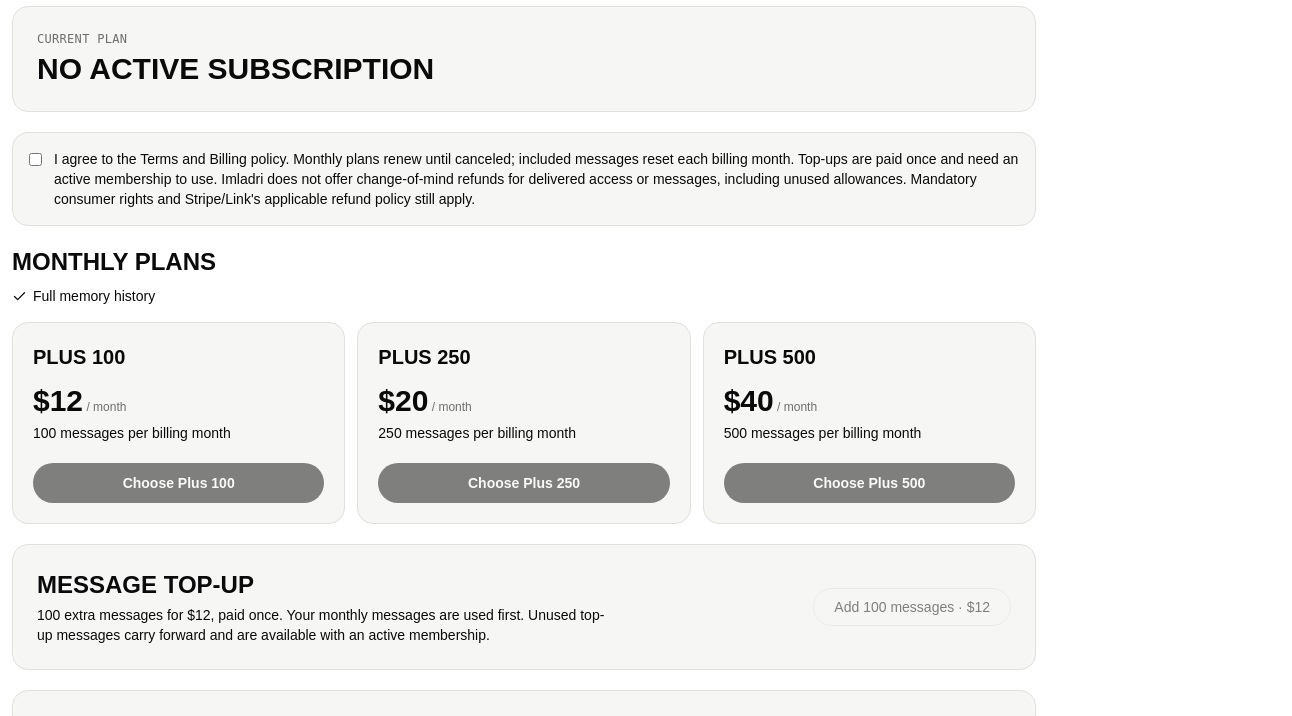
Test case: one account separately reviews and authorizes its year, including after a recoverable failure
This screenshot has width=1292, height=716.
Click the checkbox with test id "purchase-policy-accept": click(36, 160) [29, 153, 42, 166]
(page scrolled)
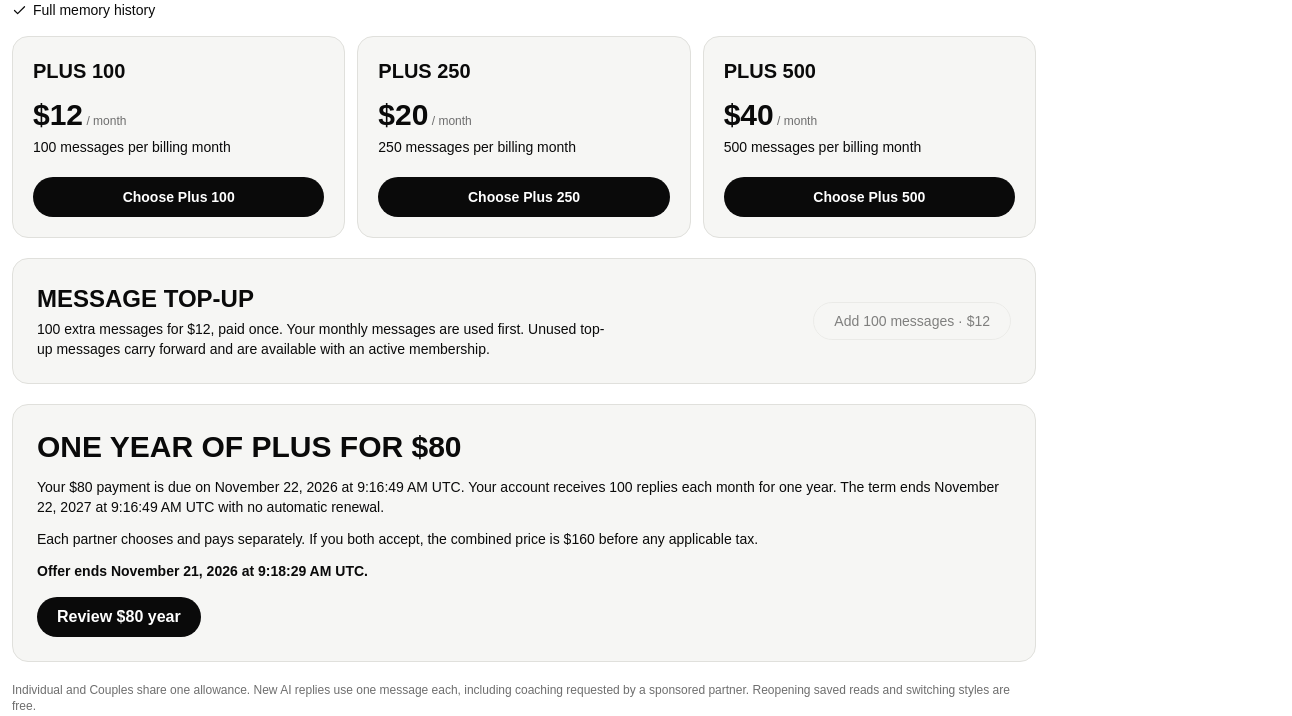
Click the button "Review $80 year": click(119, 617) [37, 597, 201, 637]
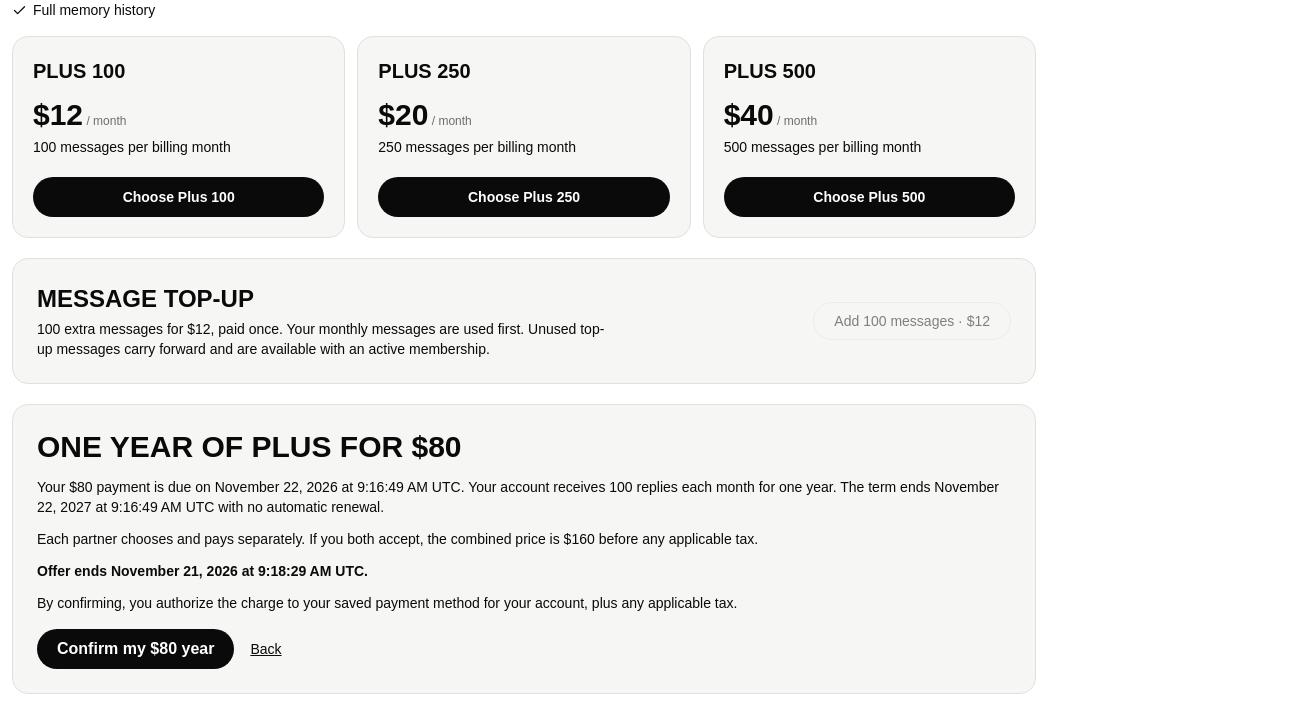
Check: the text "no automatic renewal" is shown, box [214, 499, 384, 515]
Click the button "Confirm my $80 year": click(136, 649) [37, 629, 234, 669]
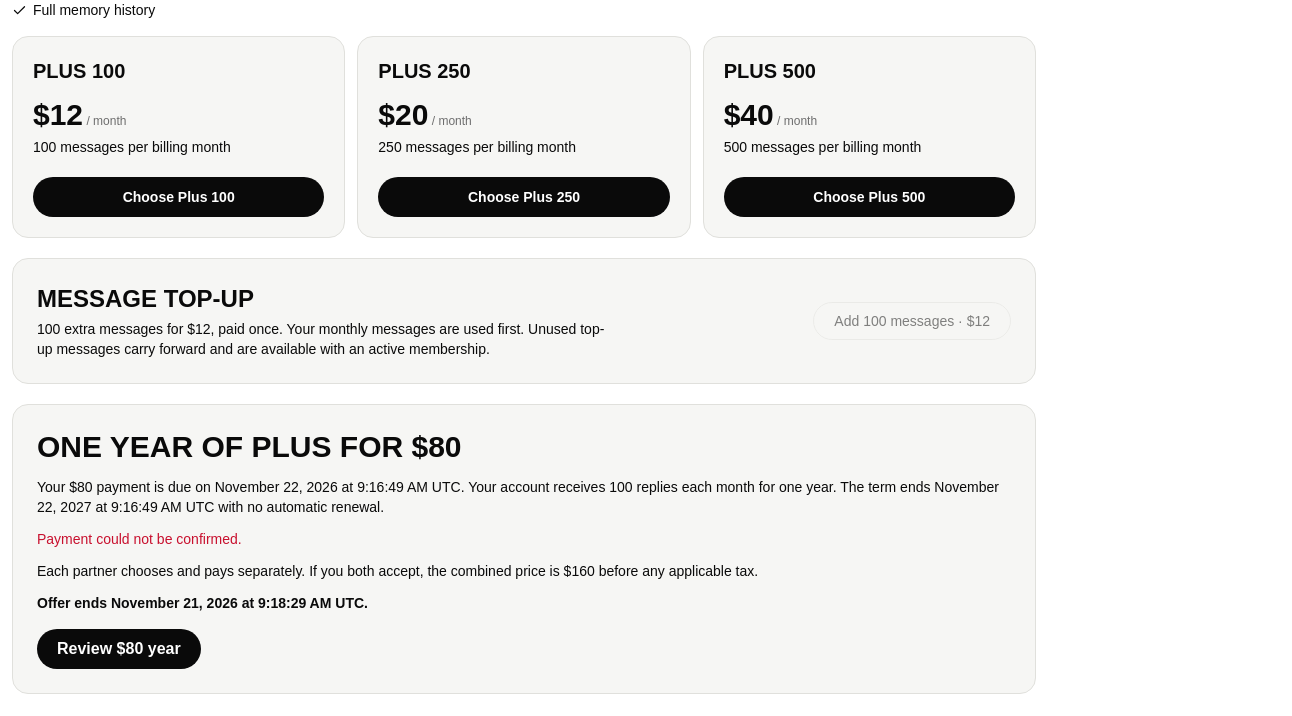
Check: the text "Your $80 year is scheduled" is not shown
Check: the message "Payment could not be confirmed." is shown, box [37, 531, 242, 547]
Click the button "Review $80 year": click(119, 649) [37, 629, 201, 669]
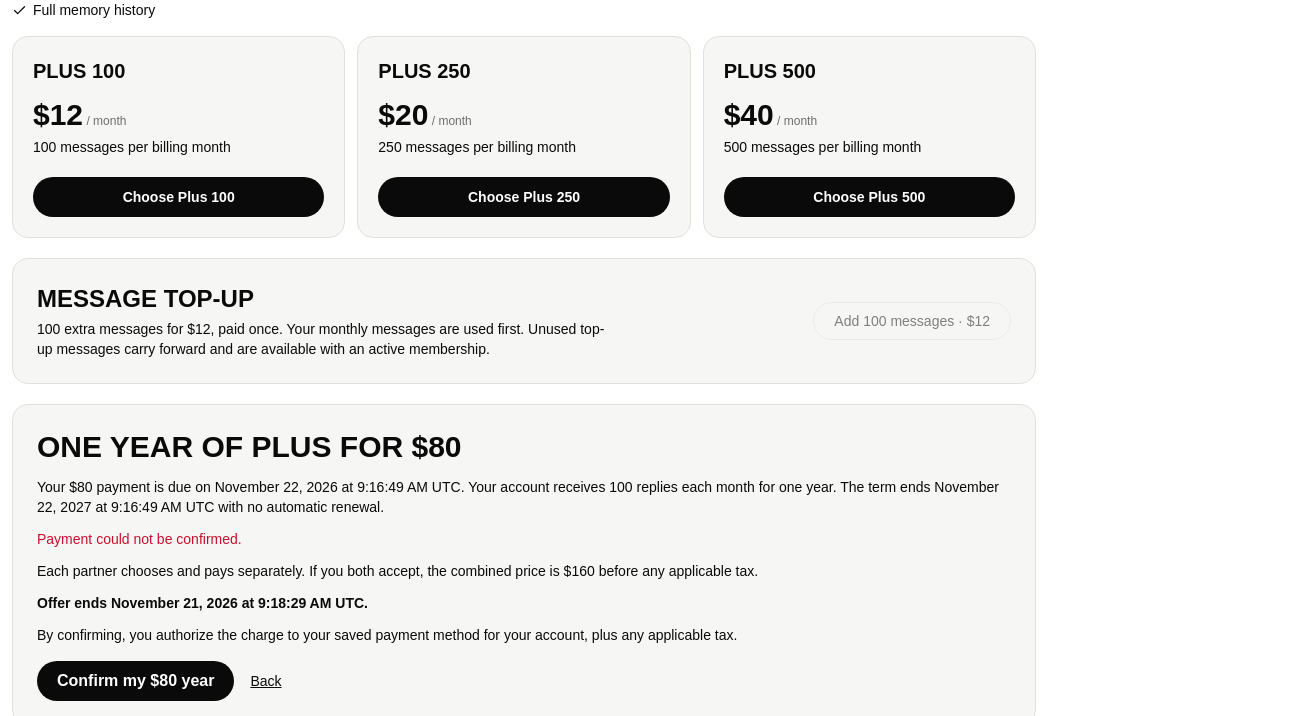
Click the button "Confirm my $80 year": click(136, 681) [37, 661, 234, 701]
(page scrolled)
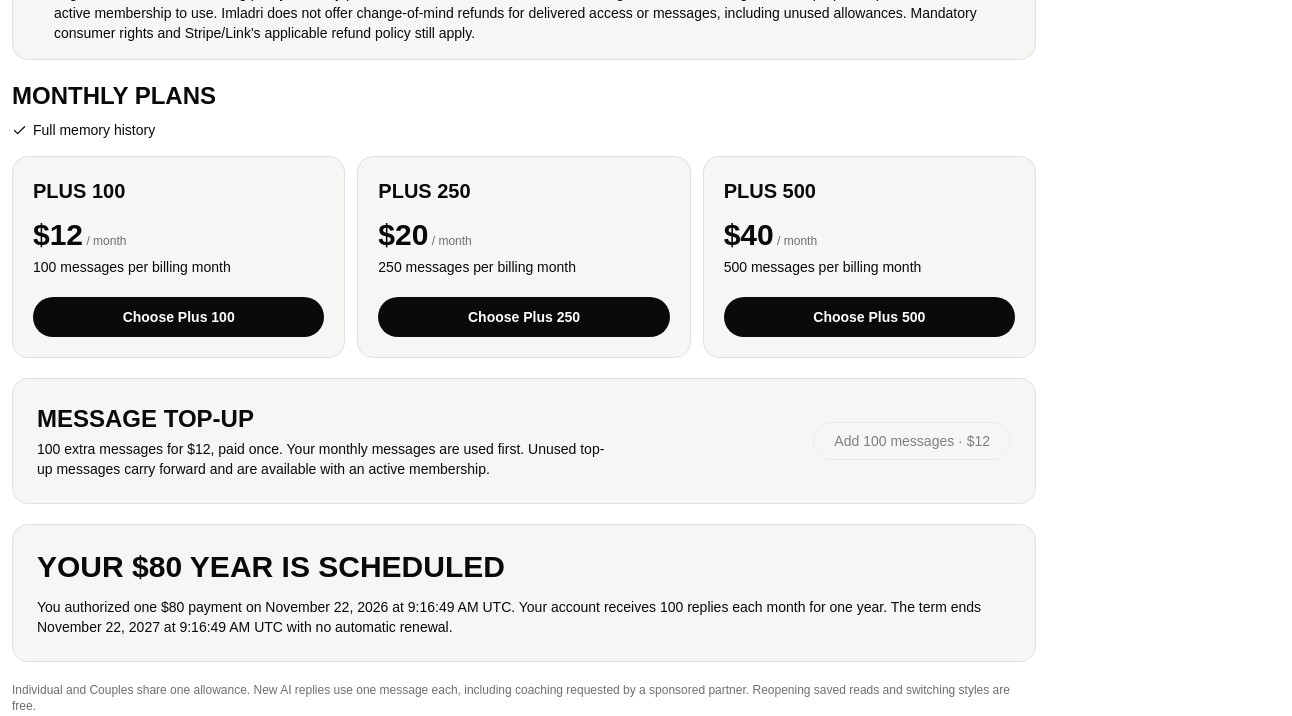
Check: the text "Your $80 year is scheduled" is shown, box [37, 550, 505, 583]
